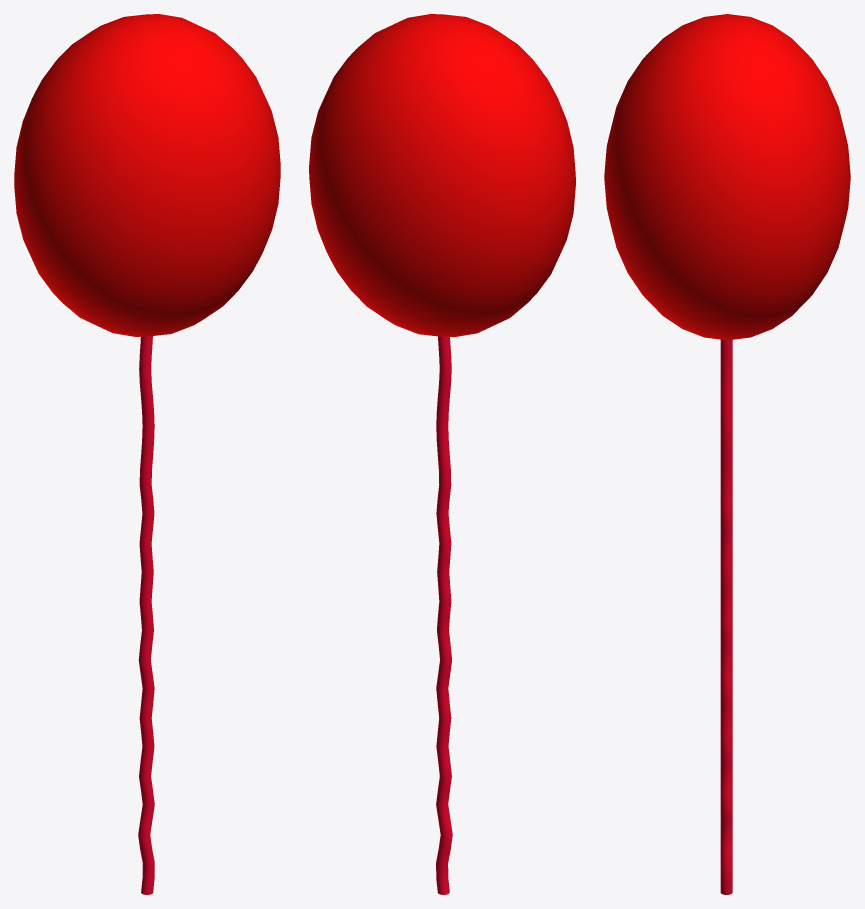
Rendered from umgebung_luftballon_low.FBX.
3 renders of one model, left to right at view 1: azimuth 30°, elevation 25°; view 2: azimuth 150°, elevation 25°; view 3: azimuth 270°, elevation 25°, orthographic.
Parts seen in each view (by area): view 1: o_luftballon_low, o_schnur_low; view 2: o_luftballon_low, o_schnur_low; view 3: o_luftballon_low, o_schnur_low.
Boxes of the visible parts, x1,y1,x2,y2 form: o_luftballon_low: [14, 14, 280, 336]; o_schnur_low: [138, 336, 154, 894]; o_luftballon_low: [309, 14, 575, 337]; o_schnur_low: [436, 336, 452, 894]; o_luftballon_low: [604, 14, 850, 340]; o_schnur_low: [720, 339, 732, 894].
Bounding box in the file's own units: 46.36 × 41.73 × 162.
